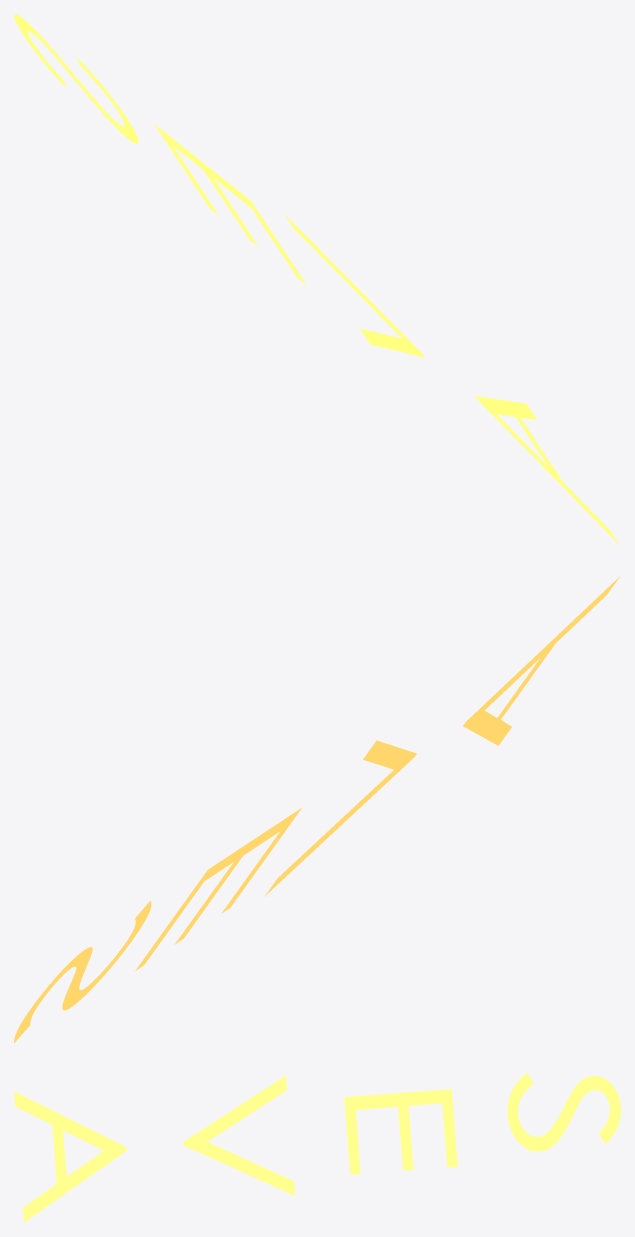
Rendered from sevatext.glb.
The picture shows the model from 3 angles, top to bottom: view 1: azimuth 30°, elevation 25°; view 2: azimuth 150°, elevation 25°; view 3: azimuth 270°, elevation 25°; orthographic projection. The views are drawn at different scales.
Parts seen in each view (by area): view 1: Seva; view 2: Seva; view 3: Seva.
Boxes of the visible parts, left/top/right/bottom form: Seva: left=14, top=14, right=619, bottom=544; Seva: left=14, top=576, right=619, bottom=1042; Seva: left=14, top=1073, right=620, bottom=1221.
Size of the model in its own units: 0.4452 by 0.7592 by 3.55.
